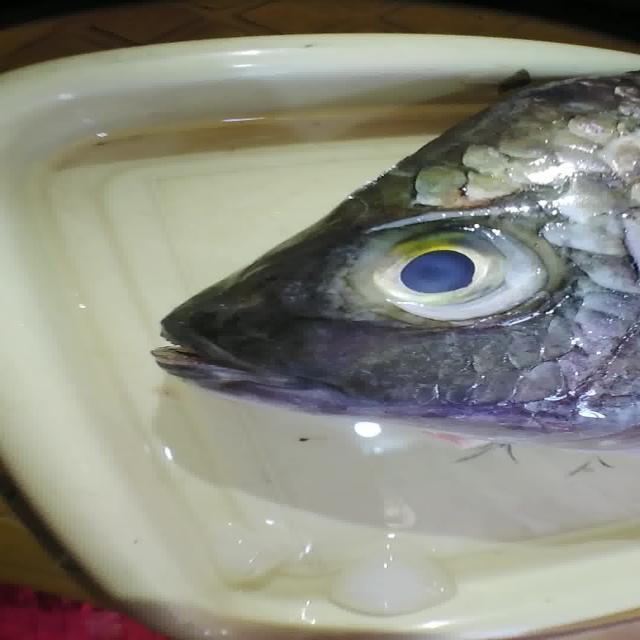Fresh: (338, 214, 579, 340)
